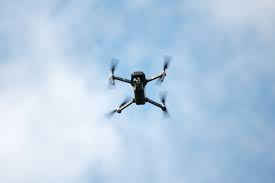drone: (107, 56, 173, 122)
